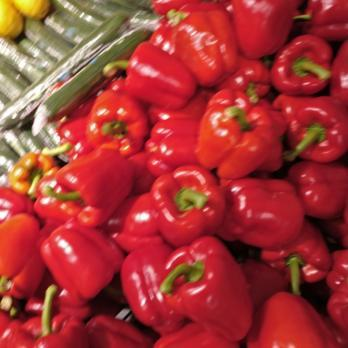Capsicum: (154, 0, 348, 348), (0, 186, 153, 348), (63, 102, 158, 188), (102, 43, 156, 100)
